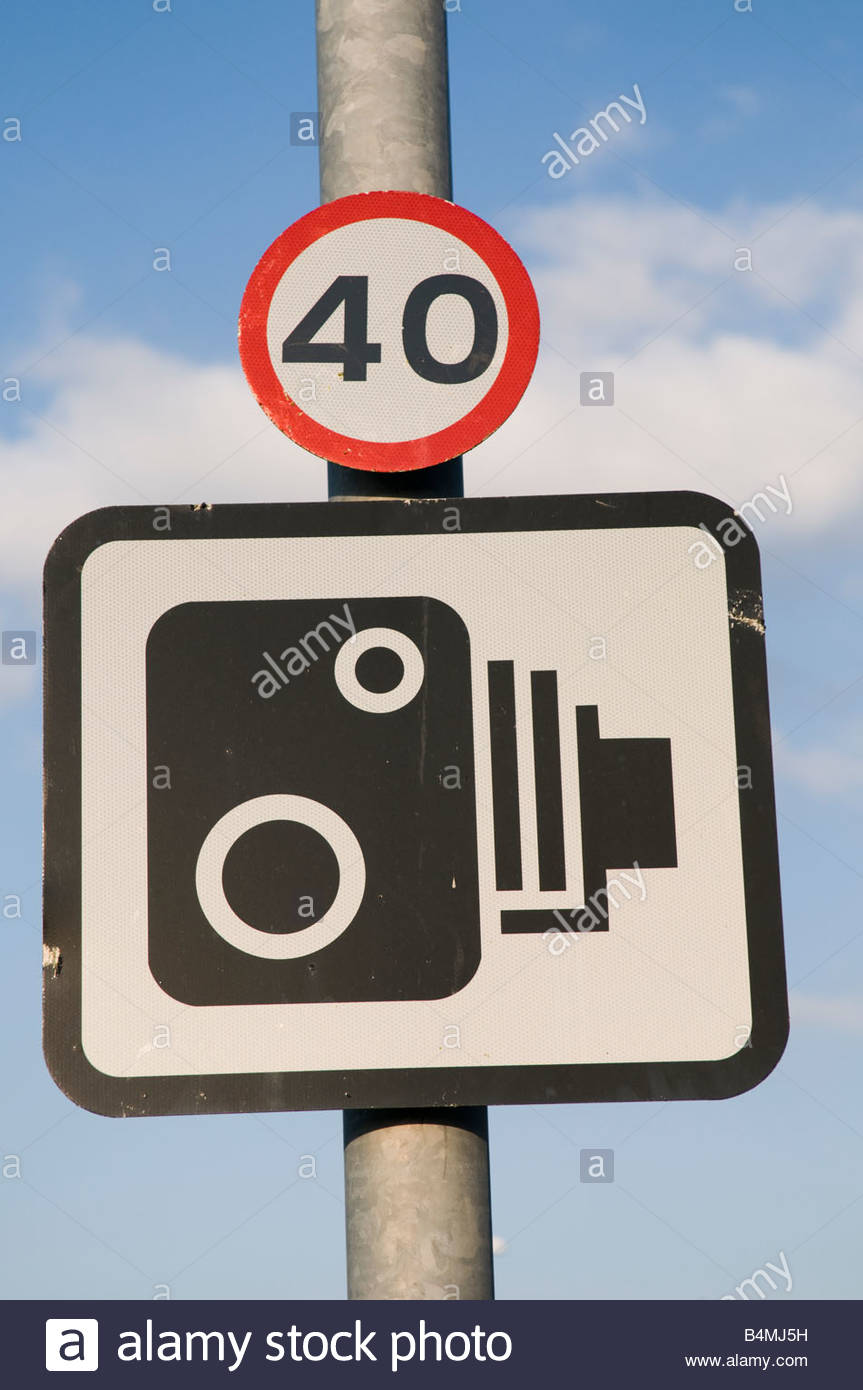Speed_limit_40km: (236, 191, 546, 472)
